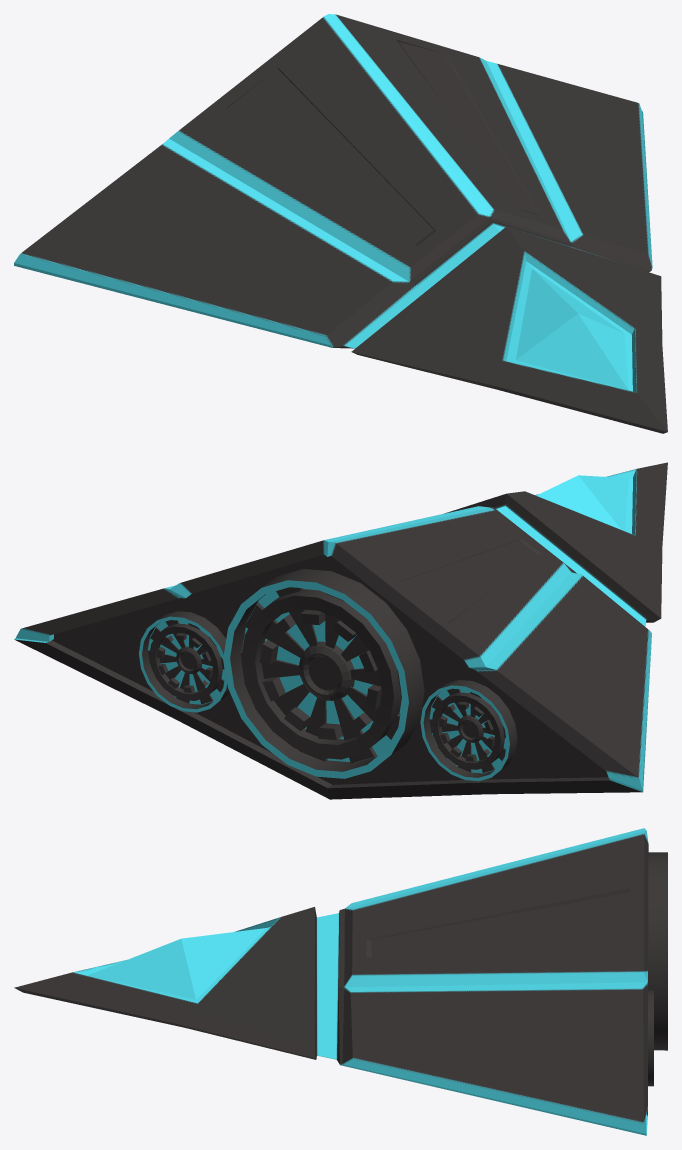
File: ShipThrusterBS.fbx
The picture shows the model from 3 angles, top to bottom: view 1: azimuth 30°, elevation 25°; view 2: azimuth 150°, elevation 25°; view 3: azimuth 270°, elevation 25°; orthographic projection. The views are drawn at different scales.
Parts seen in each view (by area): view 1: ship01; view 2: ship01, Thrusters, ThrusterBlendShape; view 3: ship01, Thrusters.
Part boxes in pixels (<box>): ship01: <box>14,14,667,433</box>; ship01: <box>14,462,667,799</box>; Thrusters: <box>138,569,517,781</box>; ThrusterBlendShape: <box>149,589,504,769</box>; ship01: <box>14,828,648,1135</box>; Thrusters: <box>648,852,667,1086</box>.
Size of the model in its own units: 0.0735 by 0.0289 by 0.0711.
